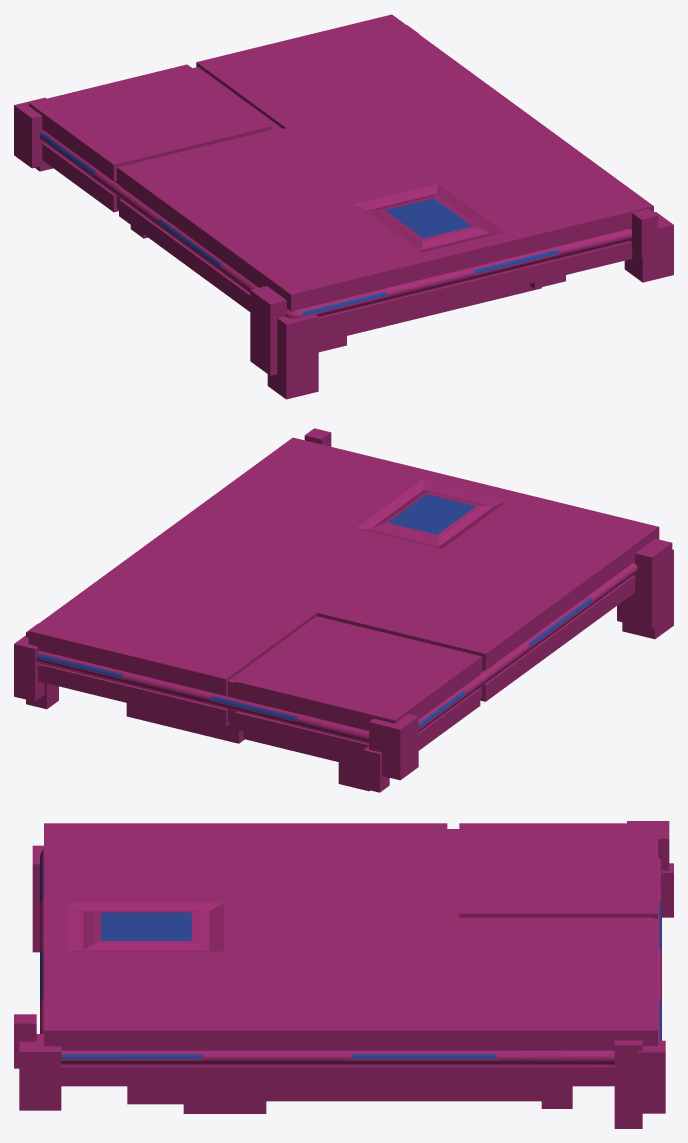
File: OBJ_Platform_2.fbx
3 views of the same model, one above another, from view 1: azimuth 30°, elevation 25°; view 2: azimuth 150°, elevation 25°; view 3: azimuth 270°, elevation 25° (orthographic). The views are drawn at different scales.
Parts seen in each view (by area): view 1: OBJ_Platform_2; view 2: OBJ_Platform_2; view 3: OBJ_Platform_2.
Part boxes in pixels (box(x1,y1,x2,y2)): OBJ_Platform_2: box(14, 14, 673, 399); OBJ_Platform_2: box(14, 428, 673, 792); OBJ_Platform_2: box(14, 821, 673, 1128).
Size of the model in its own units: 8.61 by 2.43 by 10.75.
